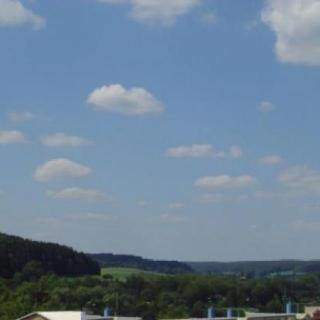Cumulus: (0, 0, 320, 261)
